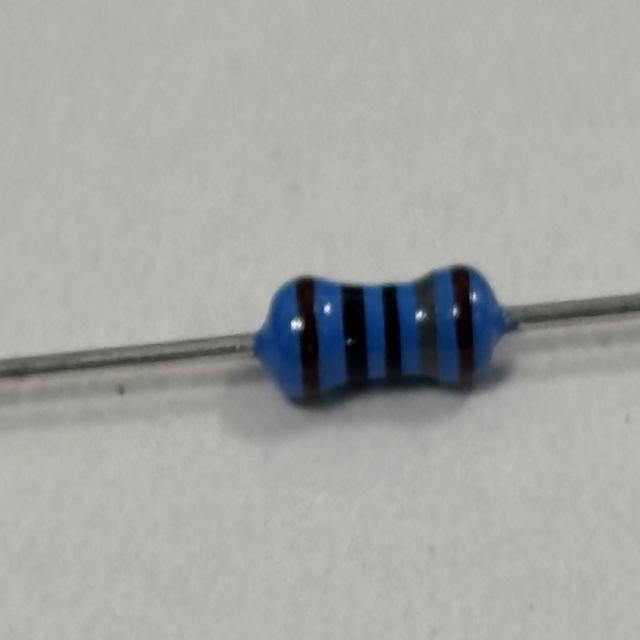resistor: (275, 261, 495, 406)
